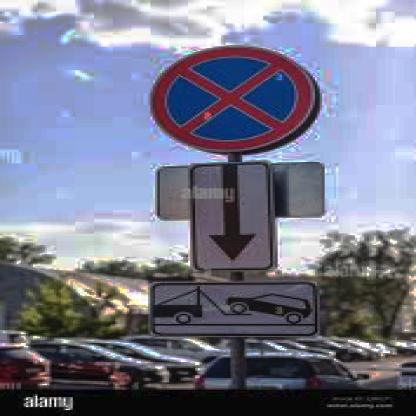No stopping: (146, 47, 315, 152)
